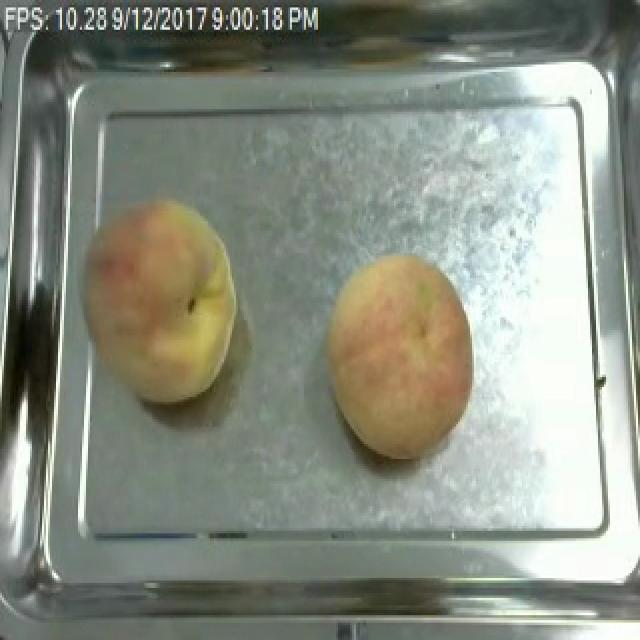Fruit: (68, 188, 246, 410), (316, 243, 482, 464)
